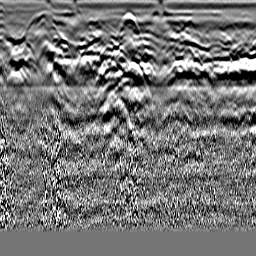cavity: (116, 10, 138, 33)
